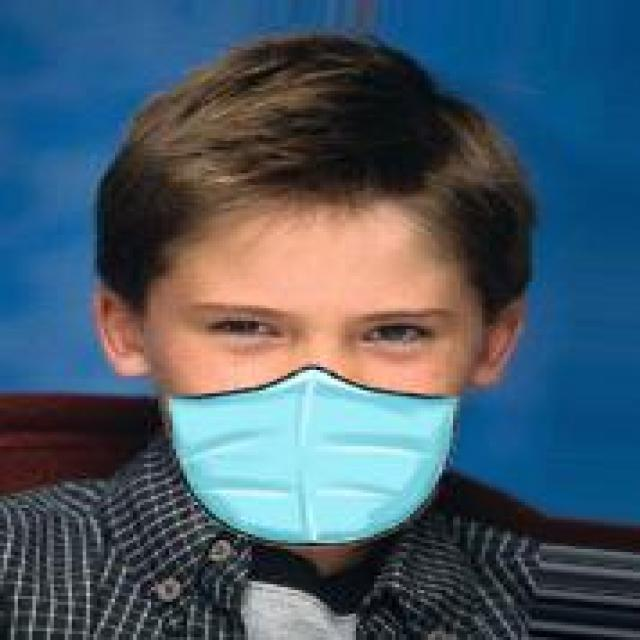mask: (100, 70, 546, 558)
